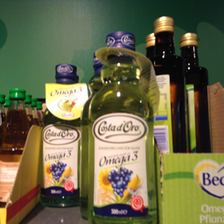oil: (80, 30, 159, 223), (40, 63, 85, 207), (150, 15, 187, 153)
